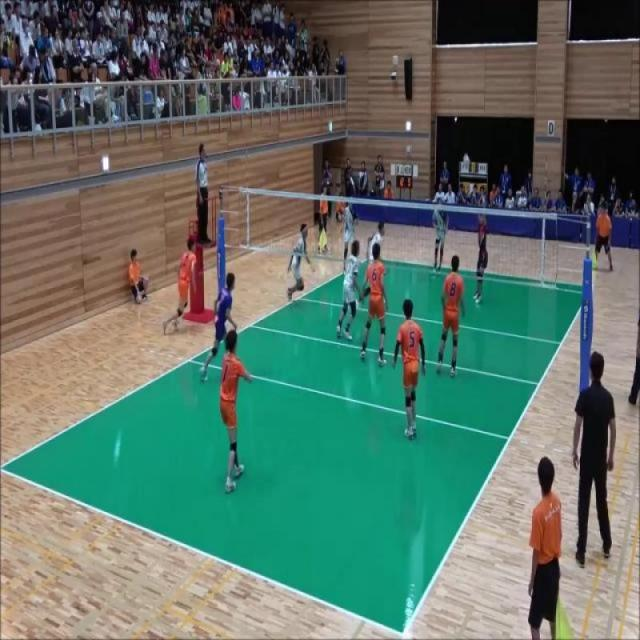volleyball: (462, 152, 470, 168)
